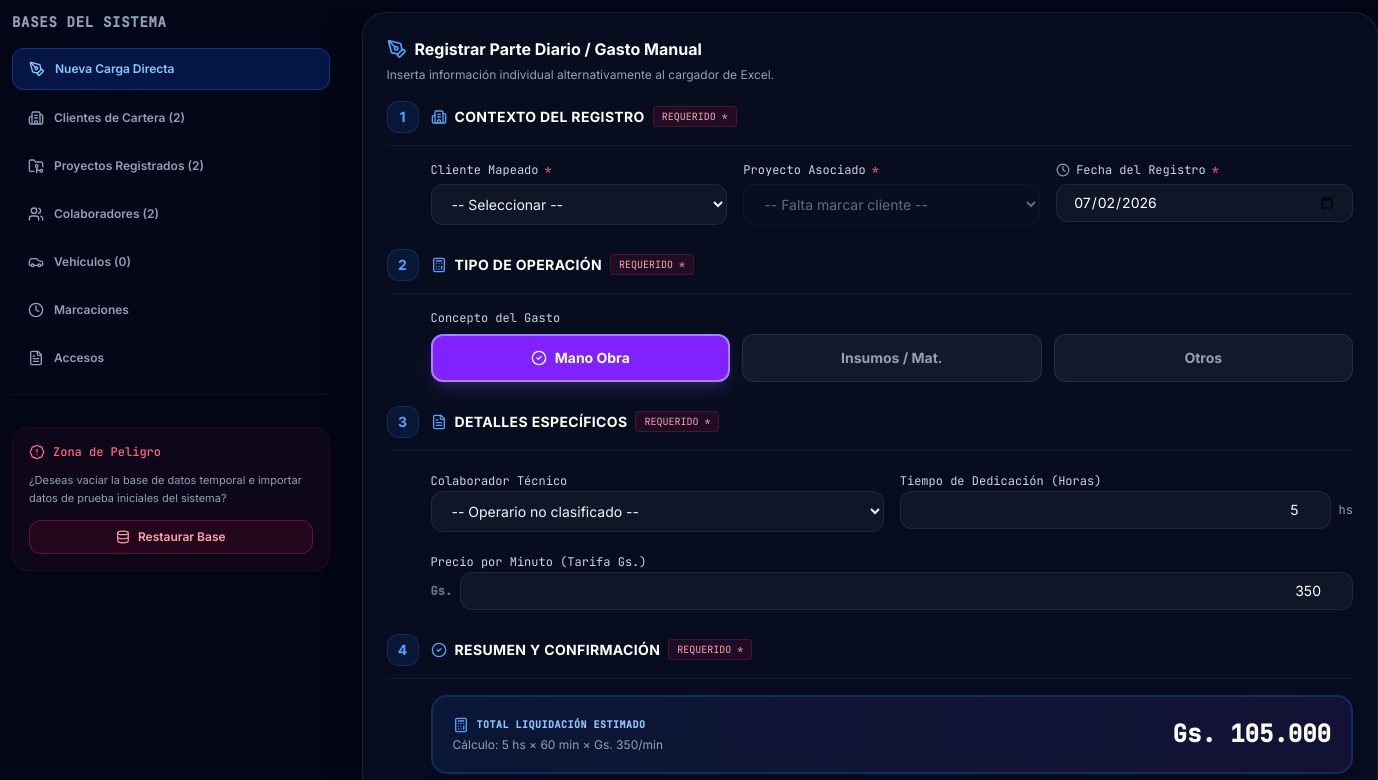
Test: AdminPanel › Tab Navigation › should switch tabs when clicking tab buttons
The width and height of the screenshot is (1378, 780).
Check: the text "Registrar Parte Diario / Gasto Manual" is shown, box [414,37,702,61]
# Click clientes tab
Click the button "Clientes de Cartera (2)" at (171, 118), box [12,98,330,138]
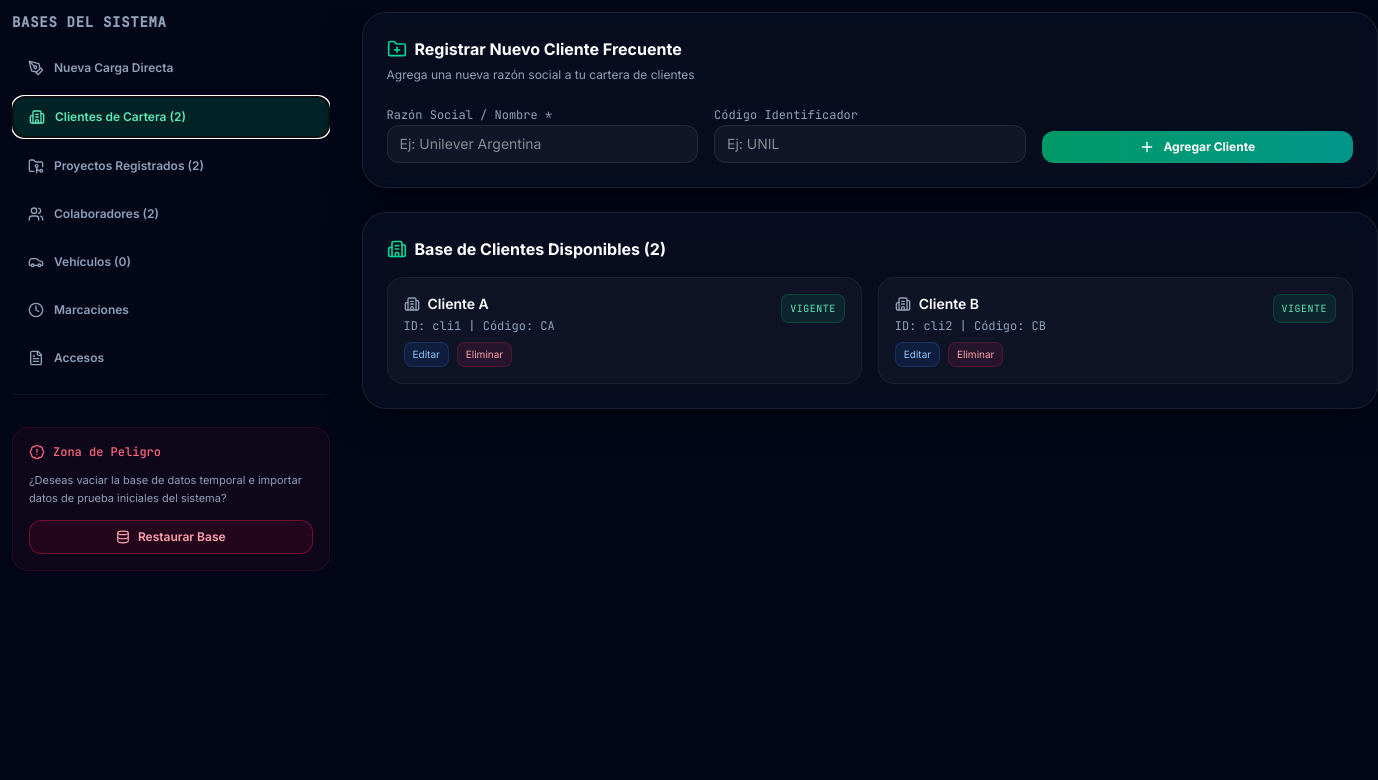
Check: the text "Registrar Nuevo Cliente Frecuente" is shown, box [414,37,682,61]
